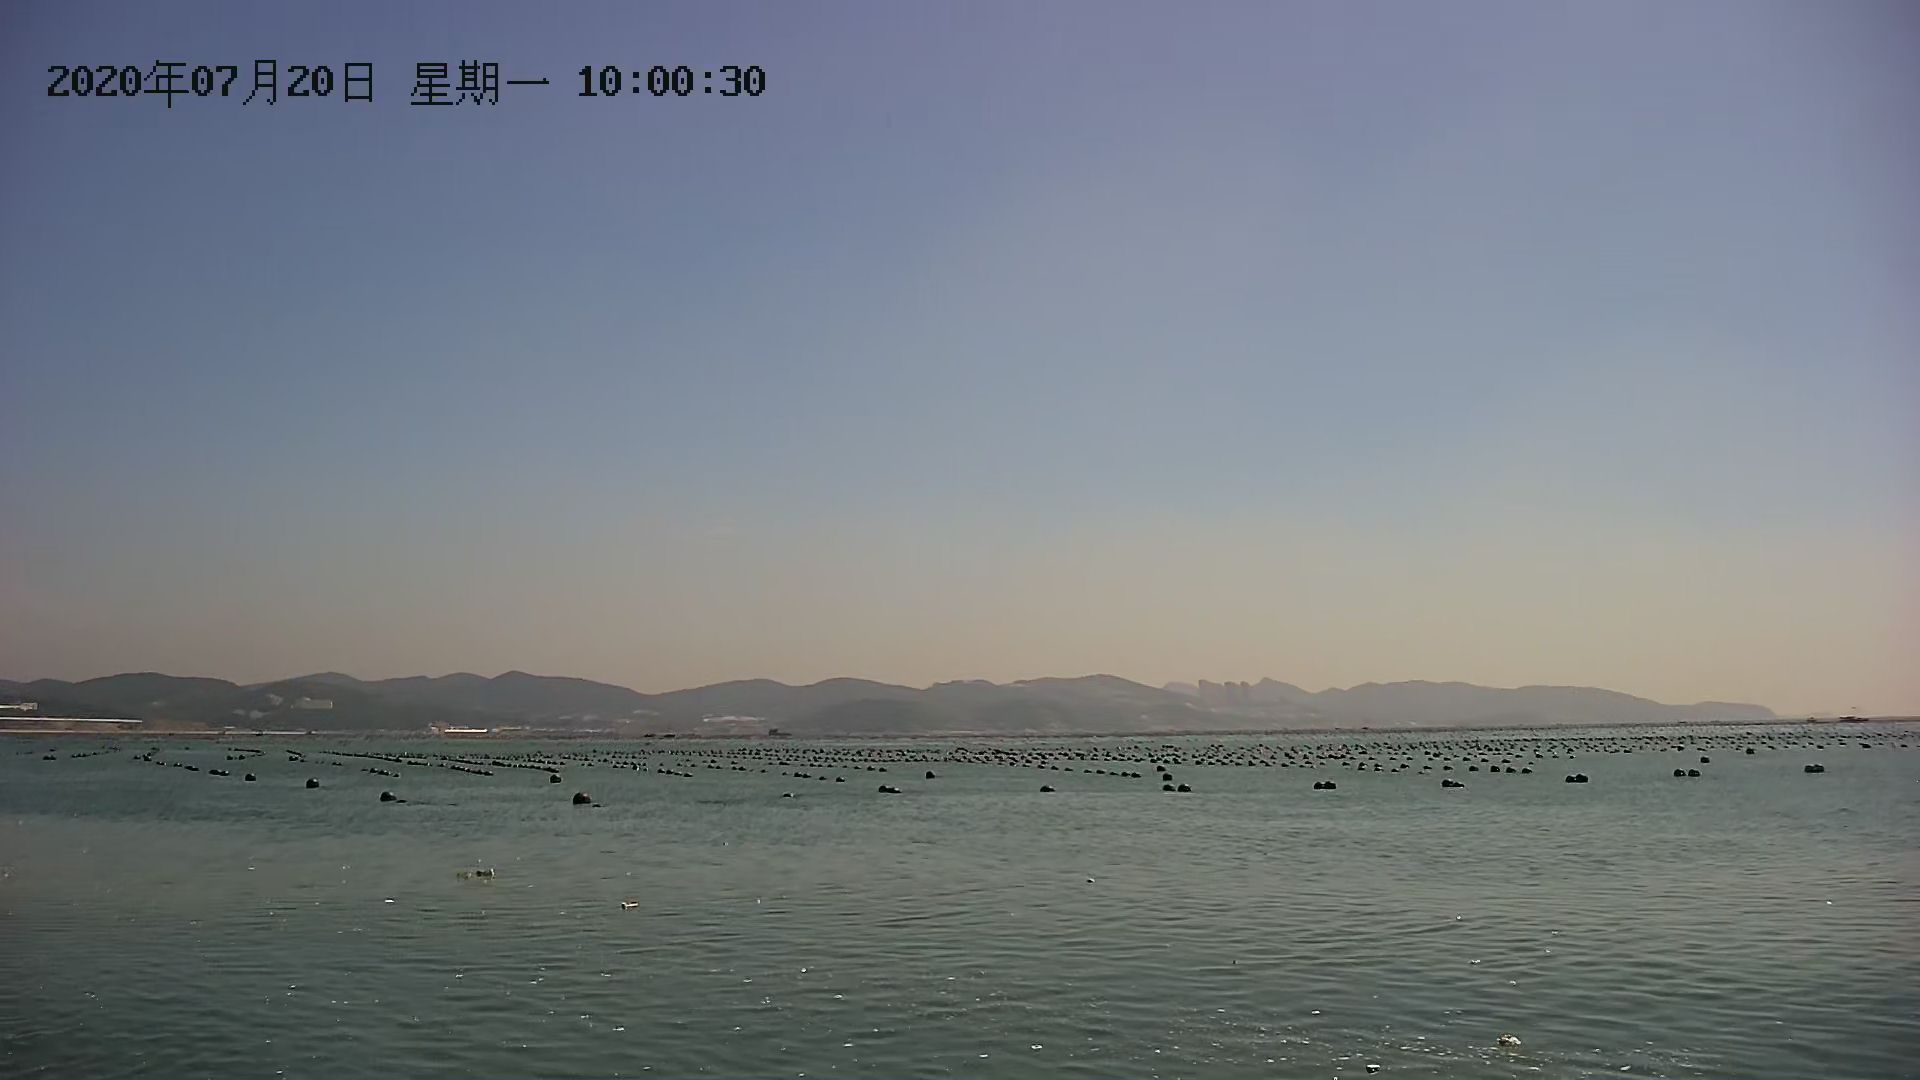ball: (1437, 775, 1468, 793), (874, 781, 905, 796), (1312, 781, 1342, 796), (1671, 764, 1693, 785), (1800, 760, 1826, 777), (1040, 781, 1064, 799), (1563, 774, 1592, 789), (1176, 781, 1203, 796), (240, 767, 261, 783), (378, 793, 405, 804), (302, 777, 320, 791), (572, 793, 596, 803)
